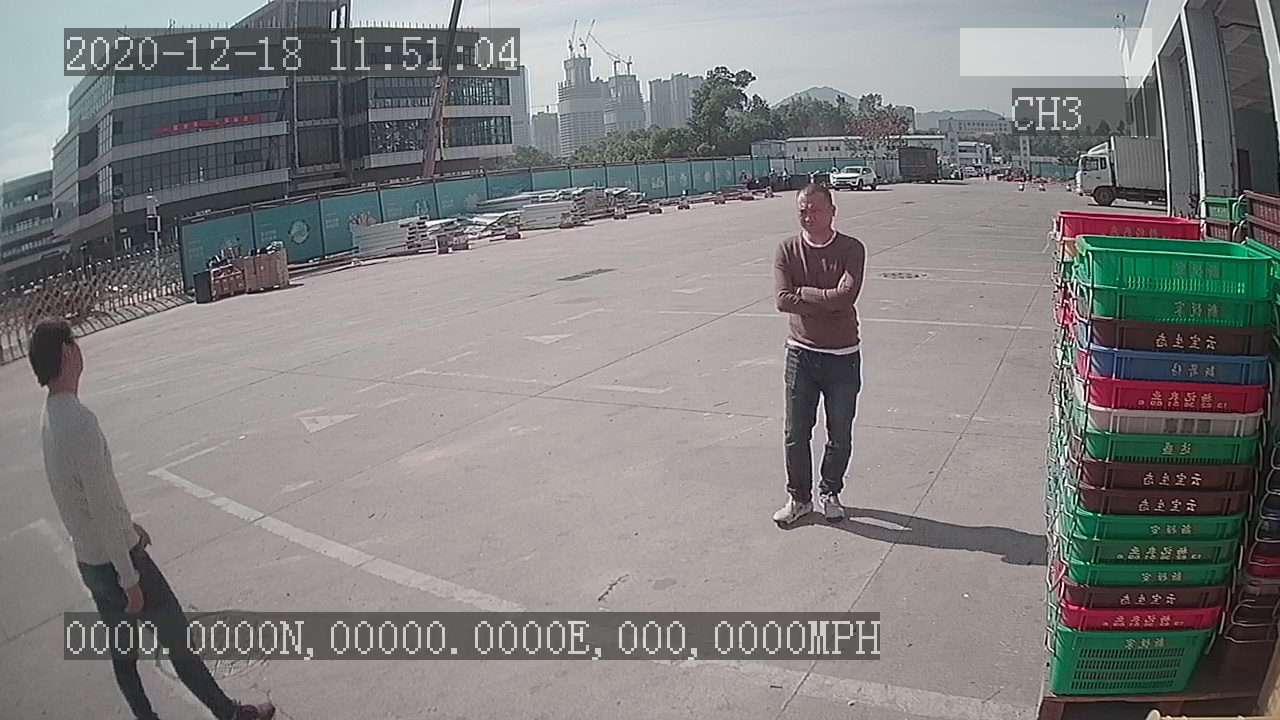person: (765, 179, 872, 533)
